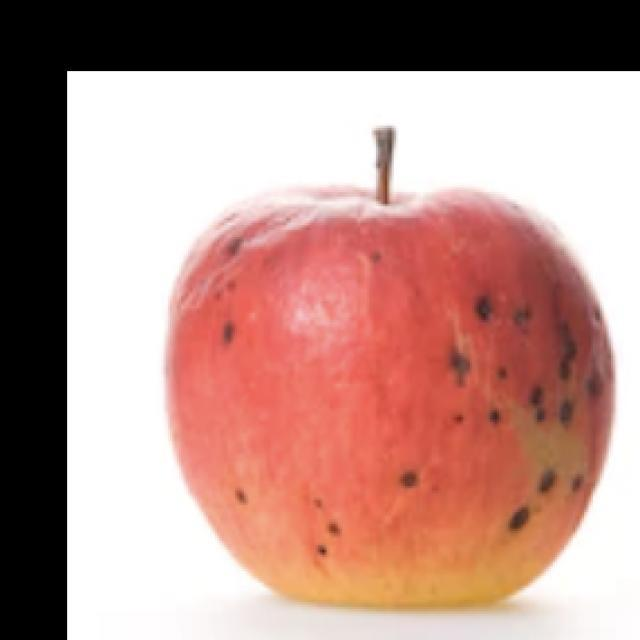Rotten: (176, 163, 609, 640)
